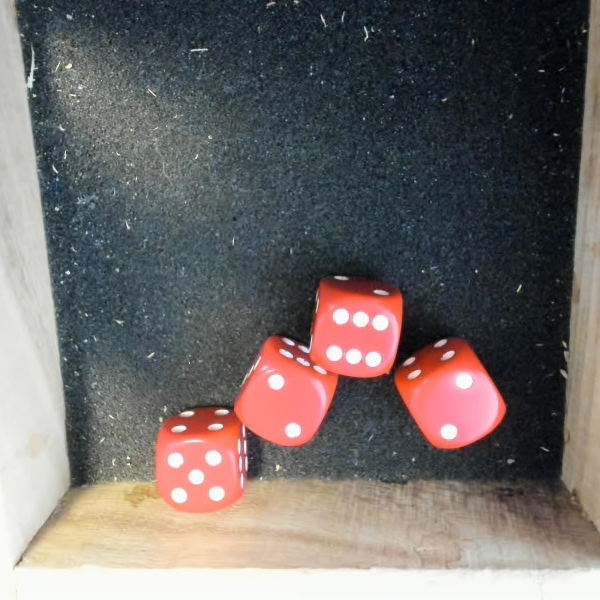red_die_pip2: (387, 325, 517, 463), (221, 326, 350, 461)
red_die_pip5: (154, 404, 250, 514)
red_die_pip6: (303, 270, 406, 385)
